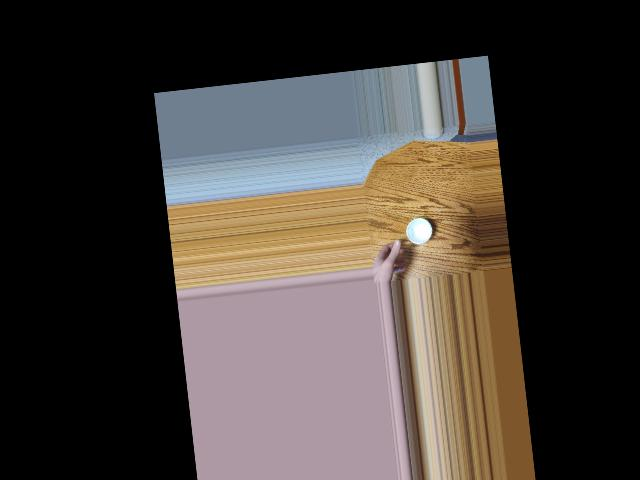cotage: (402, 216, 433, 252)
